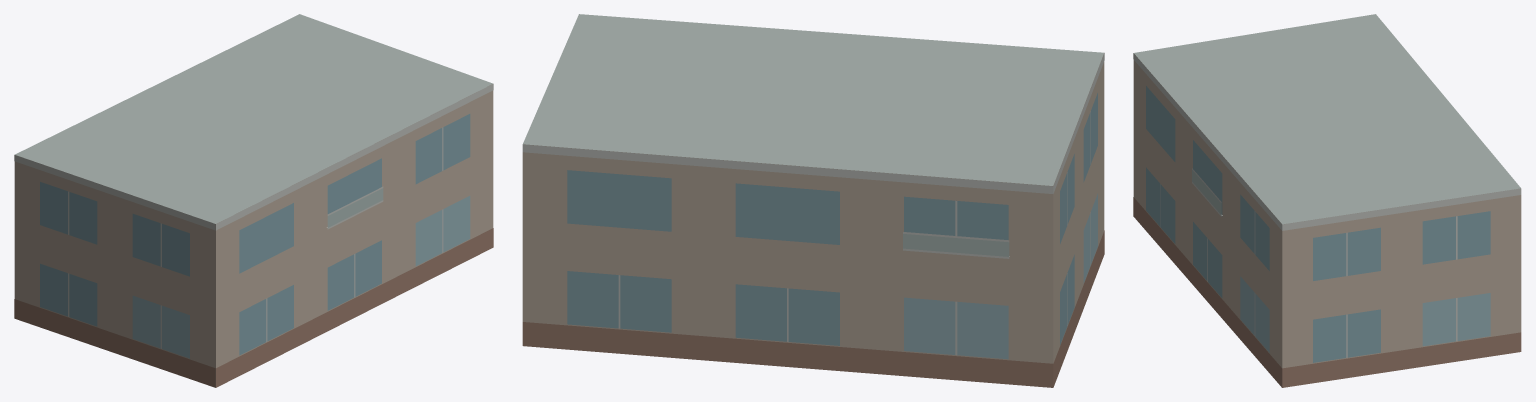
Rendered from survey-upis-32777376.glb.
3 renders of one model, left to right at view 1: azimuth 30°, elevation 25°; view 2: azimuth 150°, elevation 25°; view 3: azimuth 270°, elevation 25°, orthographic. The views are drawn at different scales.
Visible parts, largest first — view 1: survey-upis-32777376.tmp; view 2: survey-upis-32777376.tmp; view 3: survey-upis-32777376.tmp.
Boxes of the visible parts, x1,y1,x2,y2 form: survey-upis-32777376.tmp: (14, 14, 493, 387); survey-upis-32777376.tmp: (522, 14, 1104, 387); survey-upis-32777376.tmp: (1133, 14, 1521, 387).
Size of the model in its own units: 16.84 by 6.1 by 13.12.
